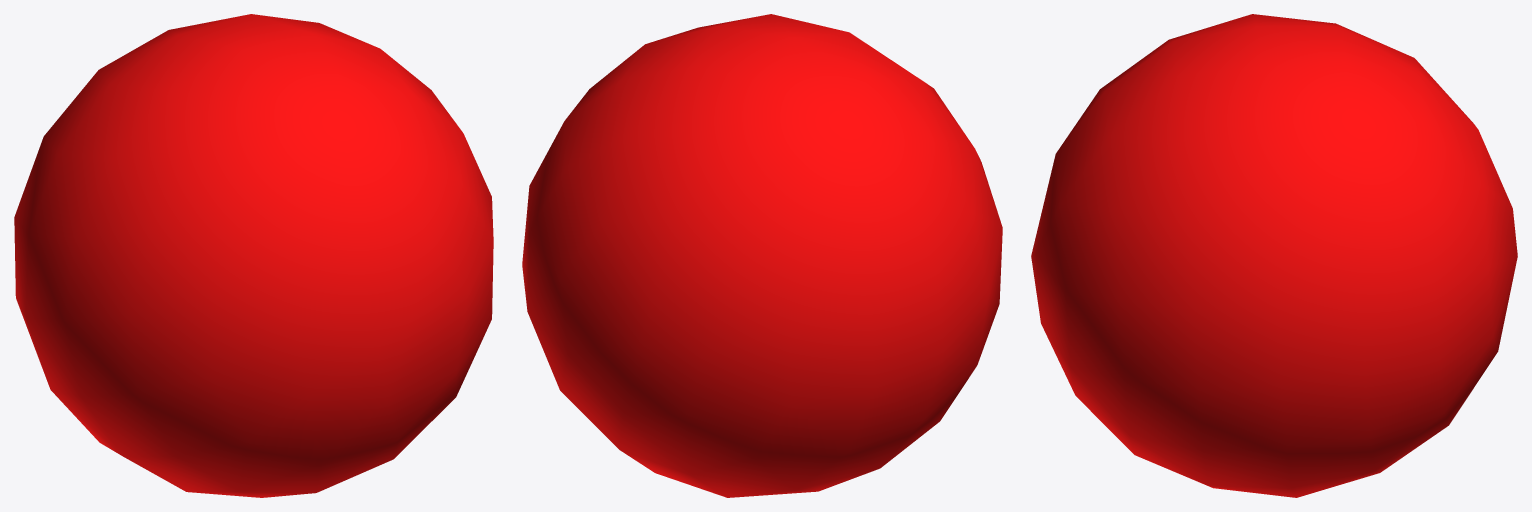
Rendered from OXYGEN.dae.
3 renders of one model, left to right at view 1: azimuth 30°, elevation 25°; view 2: azimuth 150°, elevation 25°; view 3: azimuth 270°, elevation 25°, orthographic.
Visible parts, largest first — view 1: subnode_0; view 2: subnode_0; view 3: subnode_0.
Boxes of the visible parts, x1,y1,x2,y2 form: subnode_0: [14, 14, 493, 497]; subnode_0: [522, 14, 1002, 497]; subnode_0: [1031, 14, 1517, 497].
Bounding box in the file's own units: 0.3962 × 0.397 × 0.4.
